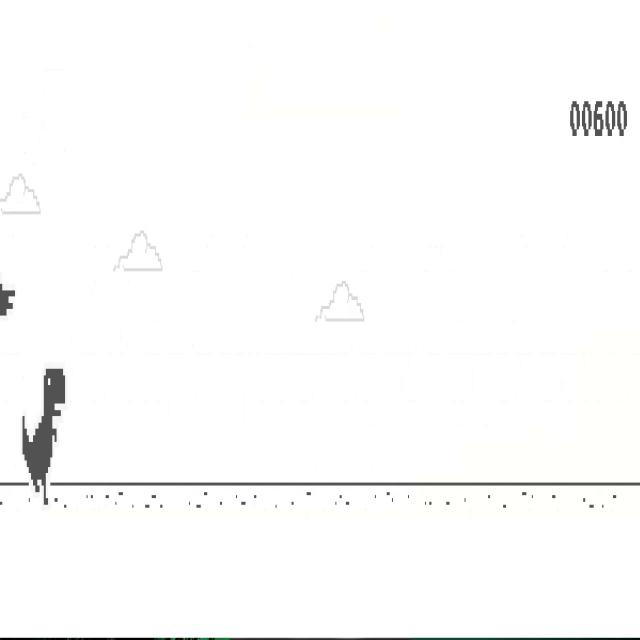dino: (21, 368, 66, 506)
ptero: (0, 271, 16, 318)
